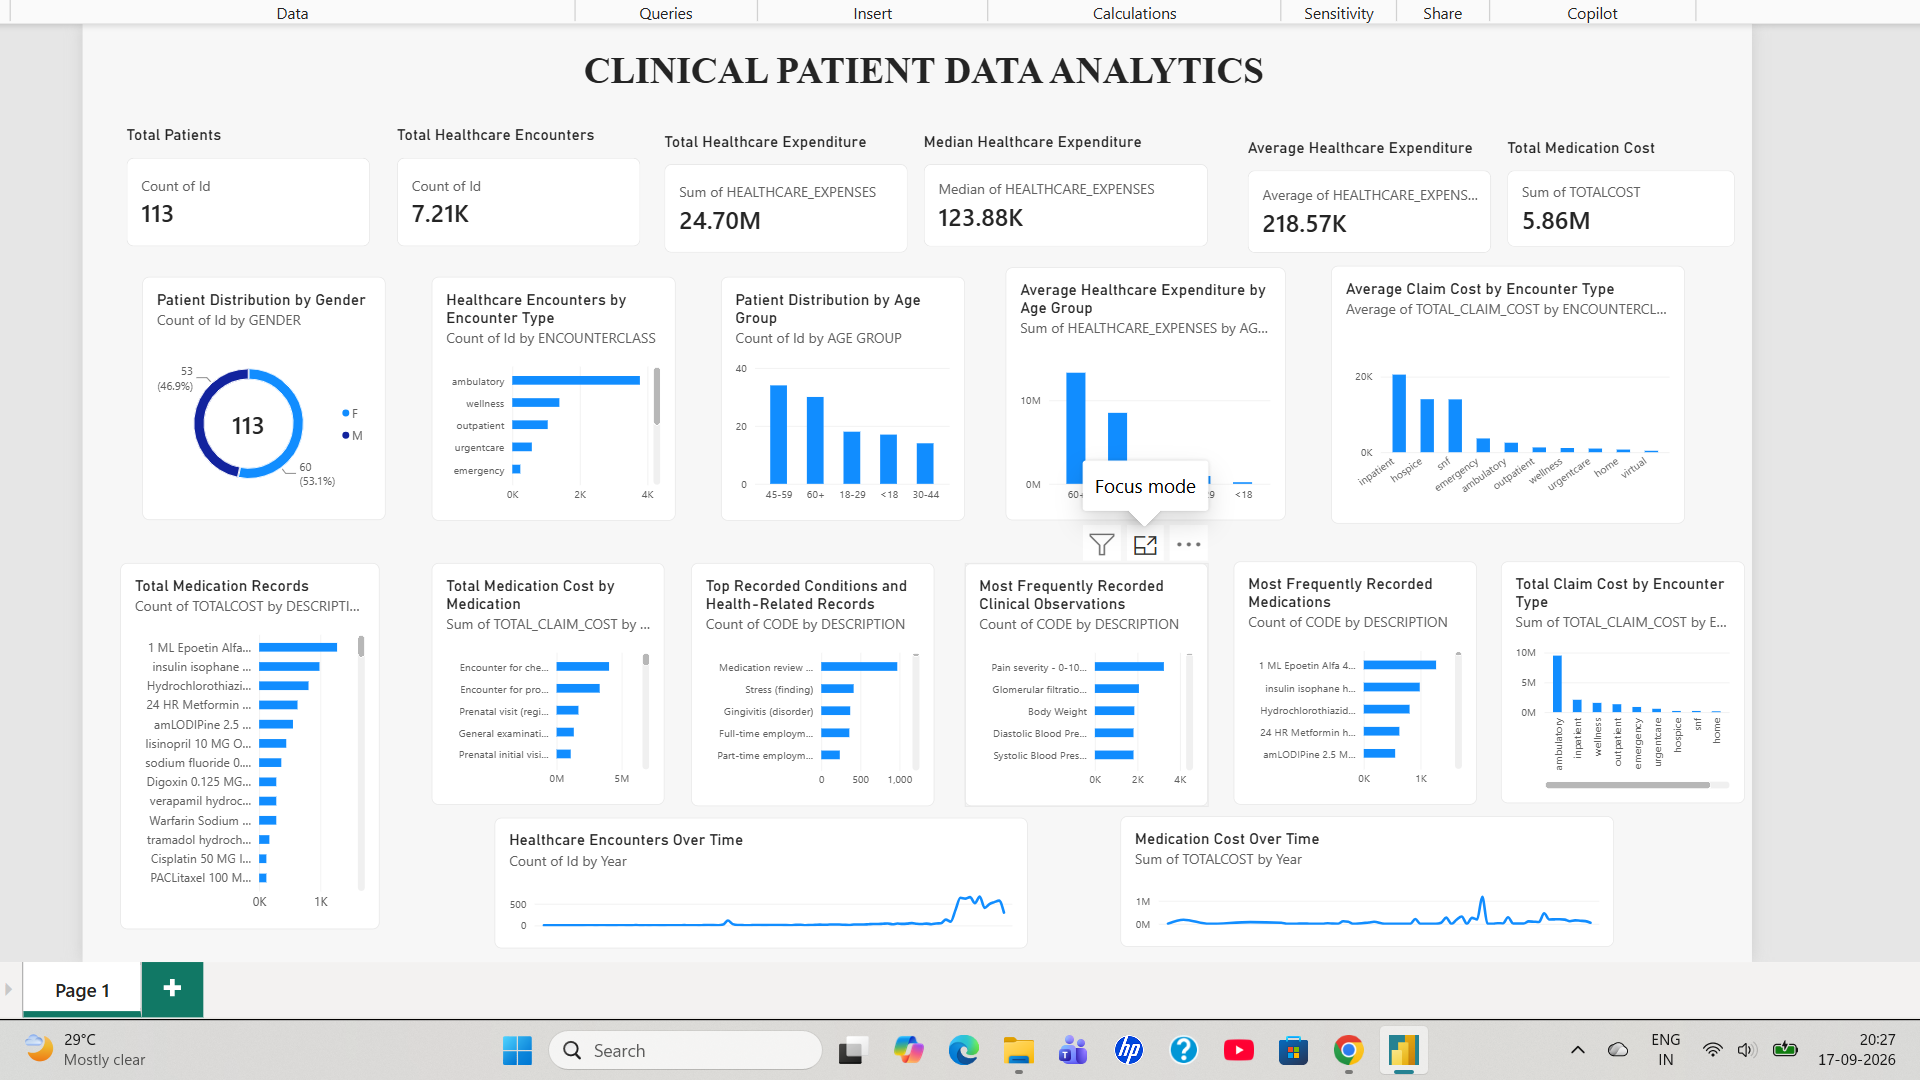

The dashboard page shown, as its layout file describes it:
{"tool":"powerbi","page":{"name":"Page 1","canvas":[1920,1080],"ordinal":0},"visuals":[{"type":"donutChart","title":"Patient Distribution by Gender","fields":{"Category":["patients.GENDER"],"Y":["CountNonNull(patients.Id)"]},"box":[68.8,291.4,280,280],"z":0},{"type":"clusteredColumnChart","title":"Patient Distribution by Age Group","fields":{"Category":["patients.AGE GROUP "],"Y":["CountNonNull(patients.Id)"]},"box":[734.7,291.4,280.5,280.5],"z":1000},{"type":"clusteredBarChart","title":"Healthcare Encounters by Encounter Type","fields":{"Category":["encounters.ENCOUNTERCLASS"],"Y":["CountNonNull(encounters.Id)"]},"box":[401.7,291.4,280.5,280.5],"z":2000},{"type":"clusteredColumnChart","title":"Total Claim Cost by Encounter Type","fields":{"Category":["encounters.ENCOUNTERCLASS"],"Y":["Sum(encounters.TOTAL_CLAIM_COST)"]},"box":[1621.5,620.7,280.5,278.7],"z":3000},{"type":"clusteredBarChart","title":"Top Recorded Conditions and Health-Related Records","fields":{"Category":["conditions.DESCRIPTION"],"Y":["CountNonNull(conditions.CODE)"]},"box":[700.3,620.7,280,280],"z":4000},{"type":"clusteredBarChart","title":"Most Frequently Recorded Clinical Observations","fields":{"Category":["observations.DESCRIPTION"],"Y":["CountNonNull(observations.CODE)"]},"box":[1015.2,620.7,280,280],"z":5000},{"type":"clusteredBarChart","title":"Most Frequently Recorded Medications","fields":{"Category":["medications.DESCRIPTION"],"Y":["CountNonNull(medications.CODE)"]},"box":[1324.7,618.9,280,280],"z":6000},{"type":"cardVisual","title":"Total Healthcare Expenditure","fields":{"Data":["Sum(patients.HEALTHCARE_EXPENSES)"]},"box":[669.6,124.9,280.5,139.3],"z":7000},{"type":"cardVisual","title":"Median Healthcare Expenditure","fields":{"Data":["Median(patients.HEALTHCARE_EXPENSES)"]},"box":[968.2,124.9,327.5,132.1],"z":8000},{"type":"cardVisual","title":"Average Healthcare Expenditure","fields":{"Data":["Avg(patients.HEALTHCARE_EXPENSES)"]},"box":[1341,132.1,280.5,132.1],"z":9000},{"type":"cardVisual","title":"Total Patients","fields":{"Data":["CountNonNull(patients.Id)"]},"box":[50.7,117.6,280.5,139.3],"z":10000},{"type":"cardVisual","title":"Total Healthcare Encounters","fields":{"Data":["CountNonNull(encounters.Id)"]},"box":[361.9,117.6,280.5,139.3],"z":11000},{"type":"cardVisual","title":"Total Medication Cost","fields":{"Data":["Sum(medications.TOTALCOST)"]},"box":[1639.6,132.1,262.4,124.9],"z":12000},{"type":"clusteredBarChart","title":"Total Medication Records","fields":{"Category":["medications.DESCRIPTION"],"Y":["CountNonNull(medications.TOTALCOST)"]},"box":[43.4,620.7,298.6,421.7],"z":13000},{"type":"clusteredColumnChart","title":"Average Claim Cost by Encounter Type","fields":{"Category":["encounters.ENCOUNTERCLASS"],"Y":["Avg(encounters.TOTAL_CLAIM_COST)"]},"box":[1400.7,275.1,407.2,296.8],"z":14000},{"type":"clusteredBarChart","title":"Total Medication Cost by Medication","fields":{"Category":["encounters.DESCRIPTION"],"Y":["Sum(encounters.TOTAL_CLAIM_COST)"]},"box":[401.7,620.7,267.8,278.7],"z":15000},{"type":"clusteredColumnChart","title":"Average Healthcare Expenditure by Age Group","fields":{"Category":["patients.AGE GROUP "],"Y":["Sum(patients.HEALTHCARE_EXPENSES)"]},"box":[1062.3,280.5,322.1,291.4],"z":16000},{"type":"lineChart","title":"Healthcare Encounters Over Time","fields":{"Category":["encounters.START.Variation.Date Hierarchy.Year"],"Y":["CountNonNull(encounters.Id)"]},"box":[474.1,913.9,613.5,150.2],"z":17000},{"type":"lineChart","title":"Medication Cost Over Time","fields":{"Category":["medications.START.Variation.Date Hierarchy.Year"],"Y":["Sum(medications.TOTALCOST)"]},"box":[1194.4,912.1,568.2,150.2],"z":18000},{"type":"textbox","box":[1762,912,150,150],"z":18001},{"type":"textbox","box":[99.5,29,1737.3,65.1],"z":18002}]}

Visuals, with their boxes on the page's 1920x1080 design canvas (x1, y1, x2, y2). These are canvas units, not pixel positions in the 1920x1080 screenshot, which may show the page scaled, cropped or inside an application window:
"Patient Distribution by Gender" donutChart: crop(69, 291, 349, 571)
"Patient Distribution by Age Group" clusteredColumnChart: crop(735, 291, 1015, 572)
"Healthcare Encounters by Encounter Type" clusteredBarChart: crop(402, 291, 682, 572)
"Total Claim Cost by Encounter Type" clusteredColumnChart: crop(1622, 621, 1902, 899)
"Top Recorded Conditions and Health-Related Records" clusteredBarChart: crop(700, 621, 980, 901)
"Most Frequently Recorded Clinical Observations" clusteredBarChart: crop(1015, 621, 1295, 901)
"Most Frequently Recorded Medications" clusteredBarChart: crop(1325, 619, 1605, 899)
"Total Healthcare Expenditure" cardVisual: crop(670, 125, 950, 264)
"Median Healthcare Expenditure" cardVisual: crop(968, 125, 1296, 257)
"Average Healthcare Expenditure" cardVisual: crop(1341, 132, 1622, 264)
"Total Patients" cardVisual: crop(51, 118, 331, 257)
"Total Healthcare Encounters" cardVisual: crop(362, 118, 642, 257)
"Total Medication Cost" cardVisual: crop(1640, 132, 1902, 257)
"Total Medication Records" clusteredBarChart: crop(43, 621, 342, 1042)
"Average Claim Cost by Encounter Type" clusteredColumnChart: crop(1401, 275, 1808, 572)
"Total Medication Cost by Medication" clusteredBarChart: crop(402, 621, 670, 899)
"Average Healthcare Expenditure by Age Group" clusteredColumnChart: crop(1062, 280, 1384, 572)
"Healthcare Encounters Over Time" lineChart: crop(474, 914, 1088, 1064)
"Medication Cost Over Time" lineChart: crop(1194, 912, 1763, 1062)
textbox: crop(1762, 912, 1912, 1062)
textbox: crop(100, 29, 1837, 94)
